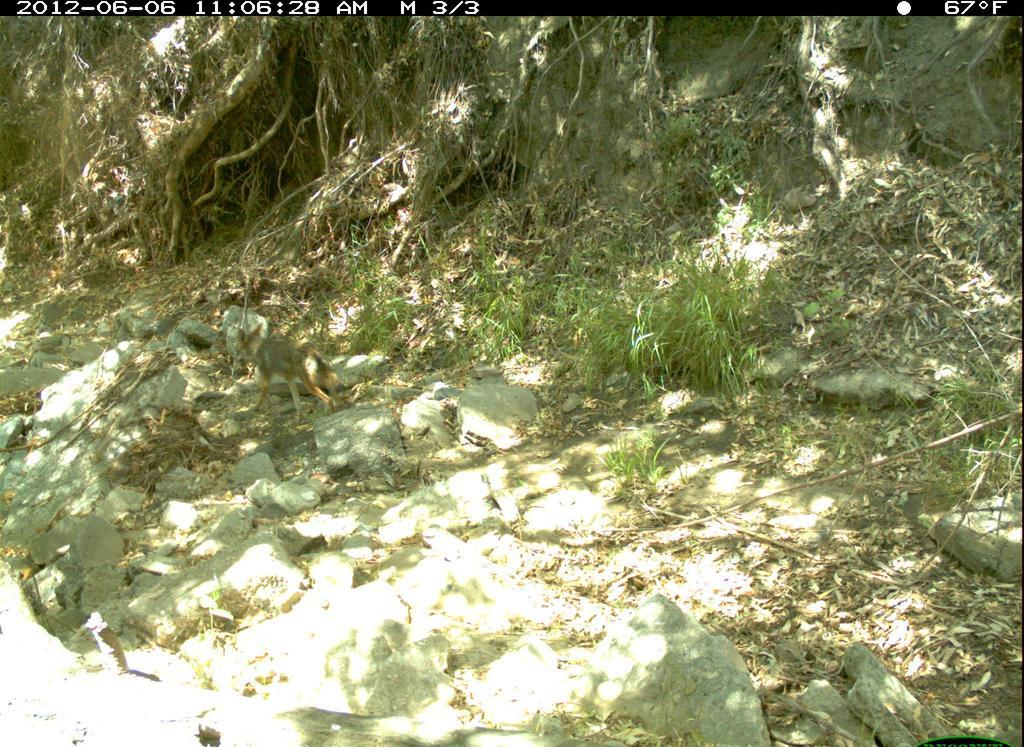coyote: (231, 319, 356, 430)
